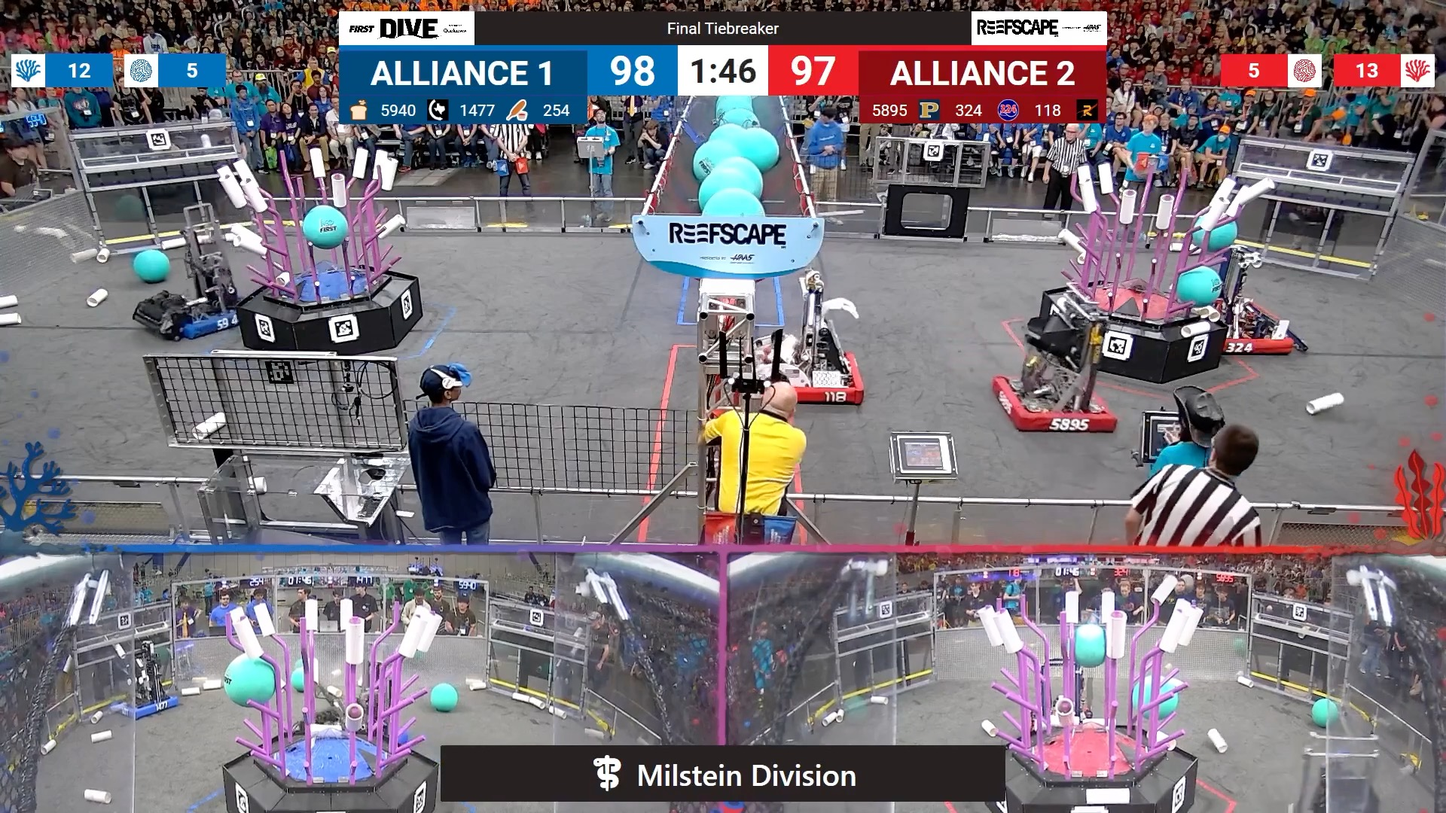bumpers: (985, 373, 1125, 444), (770, 348, 873, 411), (138, 289, 244, 342), (1213, 309, 1303, 363), (103, 693, 183, 726)
